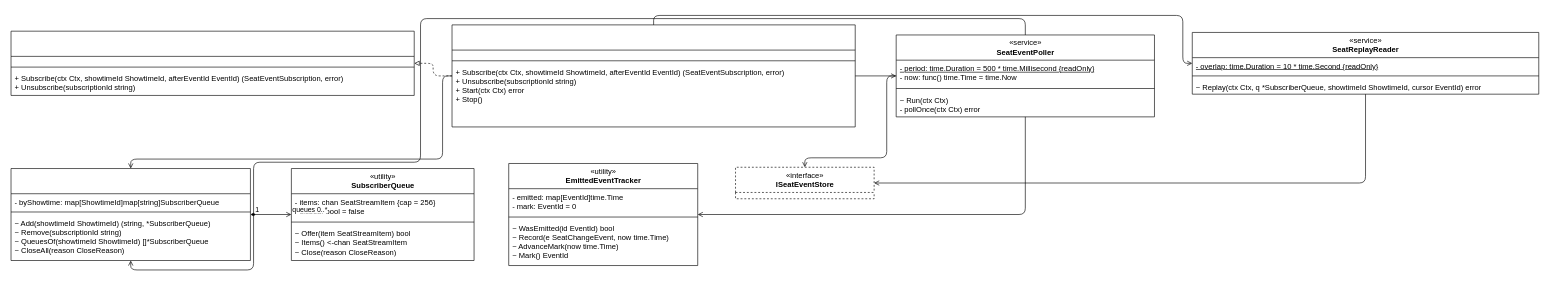
Image size: 1550x286. Some labels were removed from this diagram. Here are the shapes that lost their labels. From the top down, the box of each, then its label:
(10, 31, 414, 95): «interface» ISeatEventSubscription
(451, 24, 855, 127): «service» SeatEventHubManager
(10, 168, 250, 261): «utility» SubscriberRegistry
